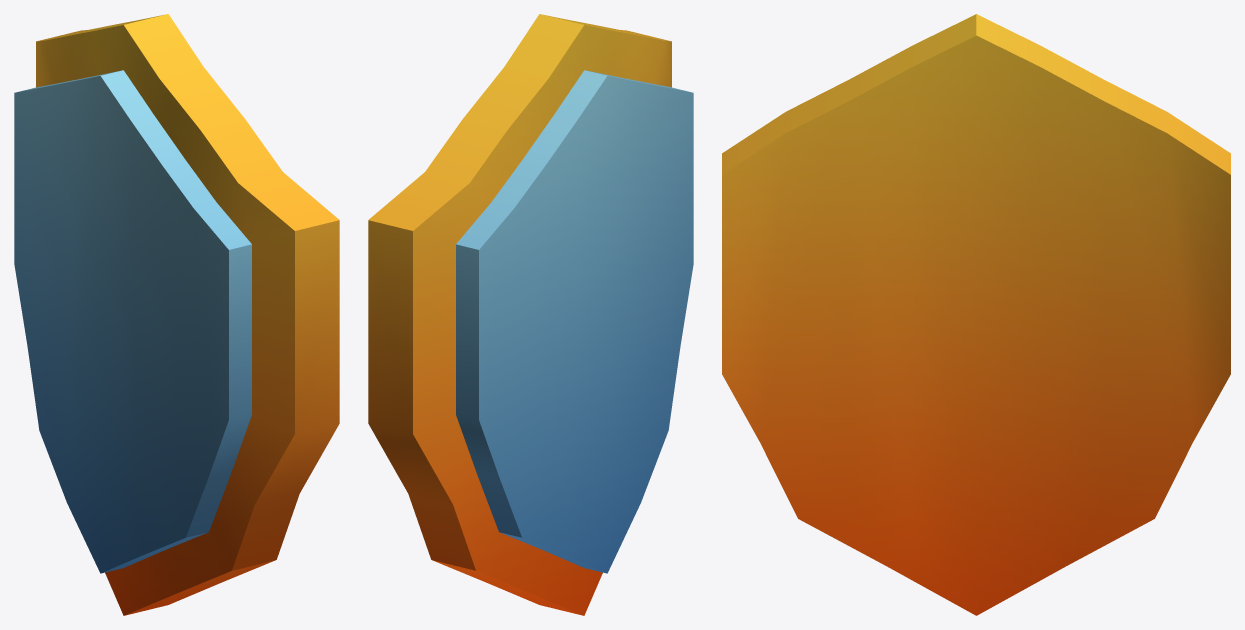
Rendered from AssetEndlessRunner 1.fbx.
3 views of the same model, side by side, from view 1: azimuth 30°, elevation 25°; view 2: azimuth 150°, elevation 25°; view 3: azimuth 270°, elevation 25° (orthographic).
Visible parts, largest first — view 1: Cube; view 2: Cube; view 3: Cube.
Boxes of the visible parts, x1=… form: Cube: x1=14, y1=14, x2=339, y2=615; Cube: x1=368, y1=14, x2=693, y2=615; Cube: x1=722, y1=14, x2=1230, y2=615.
Size of the model in its own units: 48.96 by 252 by 200.
1 material, 1 textured.
